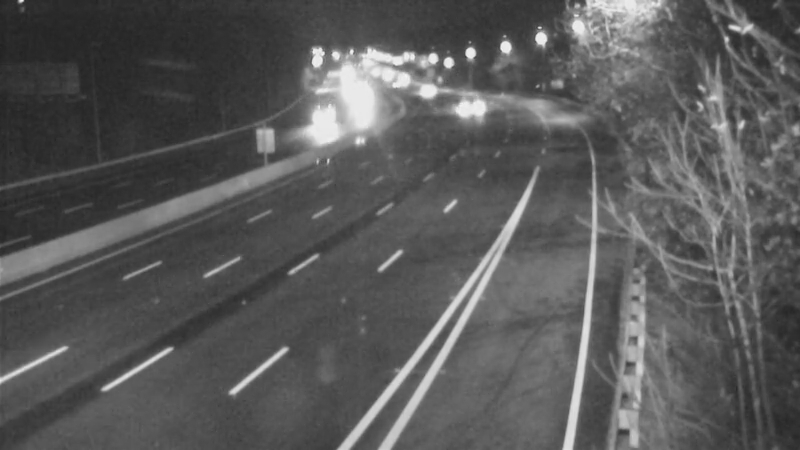vehicle: (404, 67, 454, 117), (440, 82, 490, 132), (300, 89, 350, 139), (332, 84, 382, 134)
